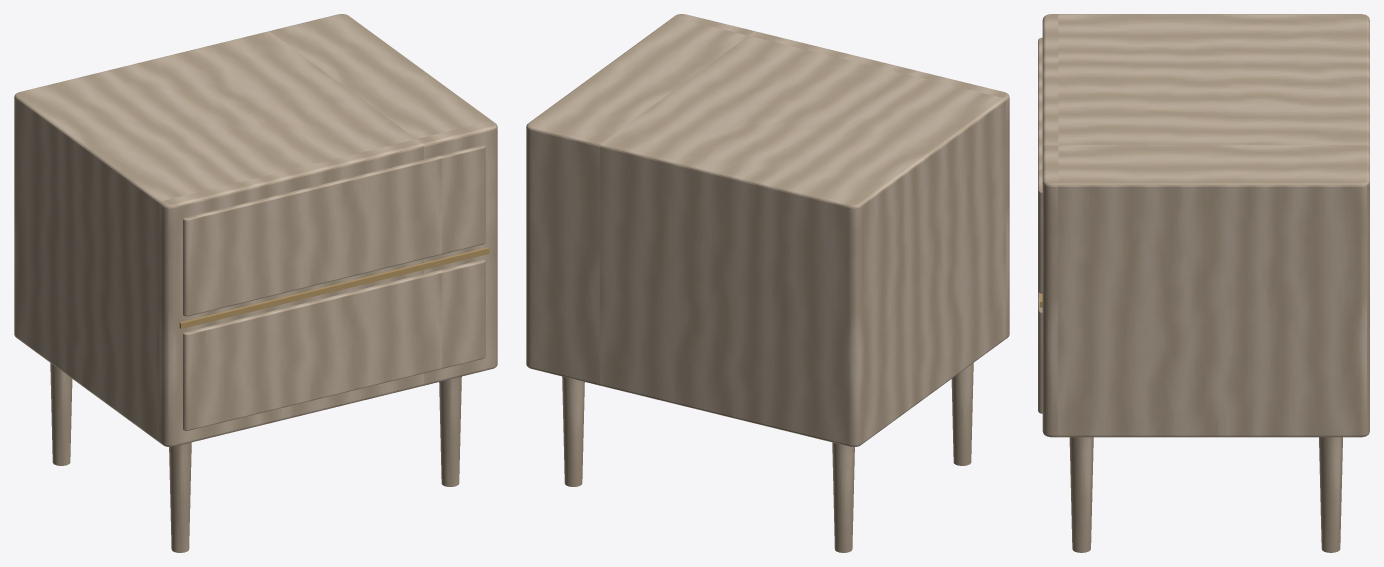
The model's file is kowhai-hero-bed-02.glb.
3 views of the same model, side by side, from view 1: azimuth 30°, elevation 25°; view 2: azimuth 150°, elevation 25°; view 3: azimuth 270°, elevation 25° (orthographic). The views are drawn at different scales.
Parts seen in each view (by area): view 1: Bedside_MitredCarcass, Bedside_Drawer_1, Bedside_Drawer_2, SubPart (×3), Bedside_BrassShadowReveal; view 2: Bedside_MitredCarcass, SubPart (×3); view 3: Bedside_MitredCarcass, SubPart (×2), Bedside_Drawer_2, Bedside_Drawer_1.
Boxes of the visible parts, left/top/right/bottom form: Bedside_MitredCarcass: left=14, top=14, right=497, bottom=446; Bedside_Drawer_1: left=183, top=259, right=485, bottom=430; Bedside_Drawer_2: left=183, top=145, right=485, bottom=316; SubPart (×3): left=50, top=363, right=461, bottom=552; Bedside_BrassShadowReveal: left=179, top=247, right=489, bottom=328; Bedside_MitredCarcass: left=526, top=14, right=1009, bottom=446; SubPart (×3): left=562, top=363, right=973, bottom=552; Bedside_MitredCarcass: left=1042, top=14, right=1369, bottom=437; SubPart (×2): left=1069, top=437, right=1342, bottom=552; Bedside_Drawer_2: left=1038, top=37, right=1042, bottom=293; Bedside_Drawer_1: left=1038, top=291, right=1042, bottom=413.
Bounding box in the file's own units: 0.52 × 0.54 × 0.426.
Materials: 2 (2 with a texture image).
